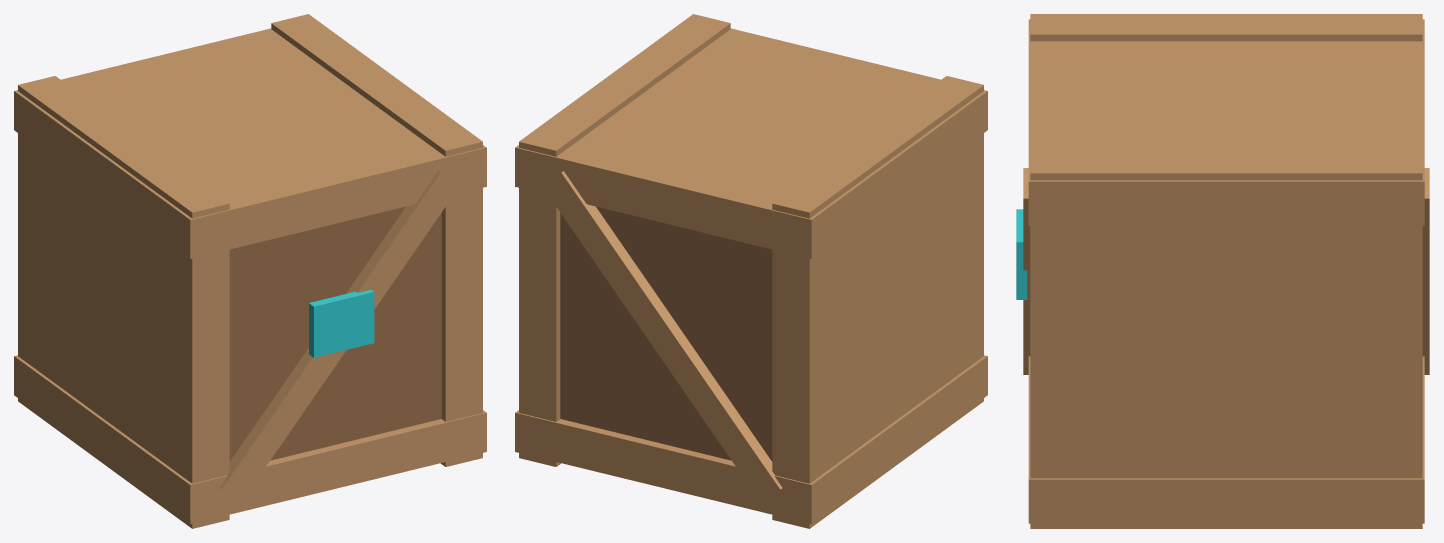
The model's file is Crate.fbx.
3 renders of one model, left to right at view 1: azimuth 30°, elevation 25°; view 2: azimuth 150°, elevation 25°; view 3: azimuth 270°, elevation 25°, orthographic. The views are drawn at different scales.
Visible parts, largest first — view 1: Crate_RenderMesh; view 2: Crate_RenderMesh; view 3: Crate_RenderMesh.
Part boxes in pixels (x1=…): Crate_RenderMesh: x1=14, y1=14, x2=486, y2=528; Crate_RenderMesh: x1=515, y1=14, x2=987, y2=528; Crate_RenderMesh: x1=1016, y1=14, x2=1429, y2=528.
Bounding box in the file's own units: 1.03 × 1.05 × 1.11.
